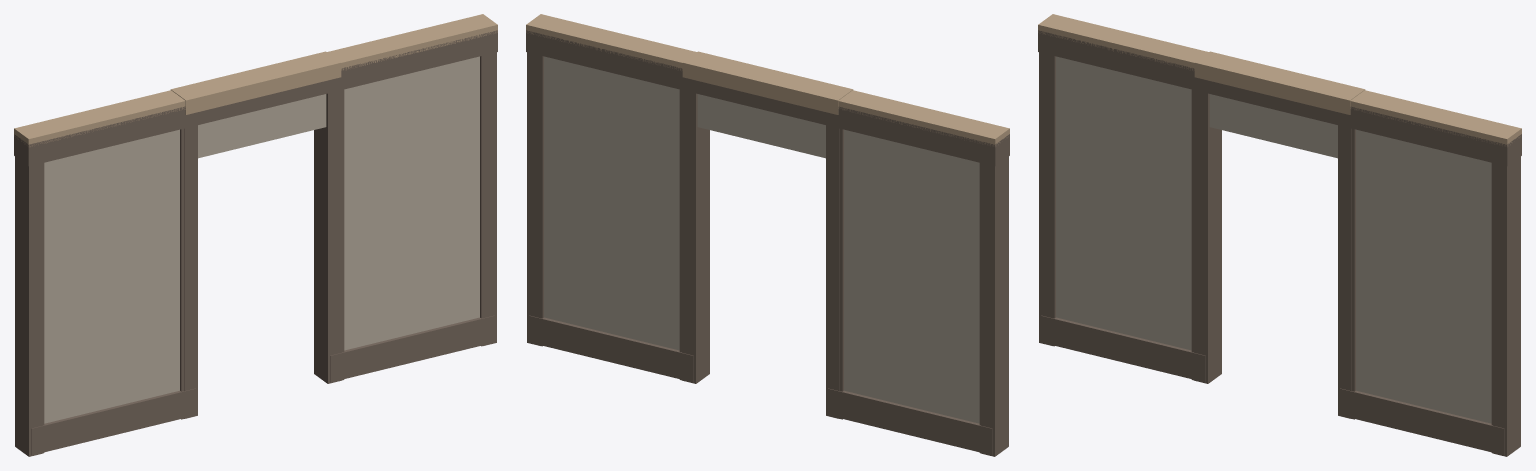
The model's file is wall_doorway_4m.glb.
3 renders of one model, left to right at view 1: azimuth 30°, elevation 25°; view 2: azimuth 150°, elevation 25°; view 3: azimuth 330°, elevation 25°, orthographic.
Visible parts, largest first — view 1: plaster, wood_dark, wood_light; view 2: plaster, wood_dark, wood_light; view 3: plaster, wood_dark, wood_light.
Boxes of the visible parts, x1,y1,x2,y2 form: plaster: (44, 56, 479, 423); wood_dark: (14, 30, 497, 456); wood_light: (14, 14, 497, 146); plaster: (544, 56, 979, 423); wood_dark: (526, 30, 1009, 456); wood_light: (526, 14, 1009, 146); plaster: (1056, 56, 1491, 423); wood_dark: (1038, 30, 1521, 456); wood_light: (1038, 14, 1521, 146).
Size of the model in its own units: 4.05 by 2.63 by 0.23.
